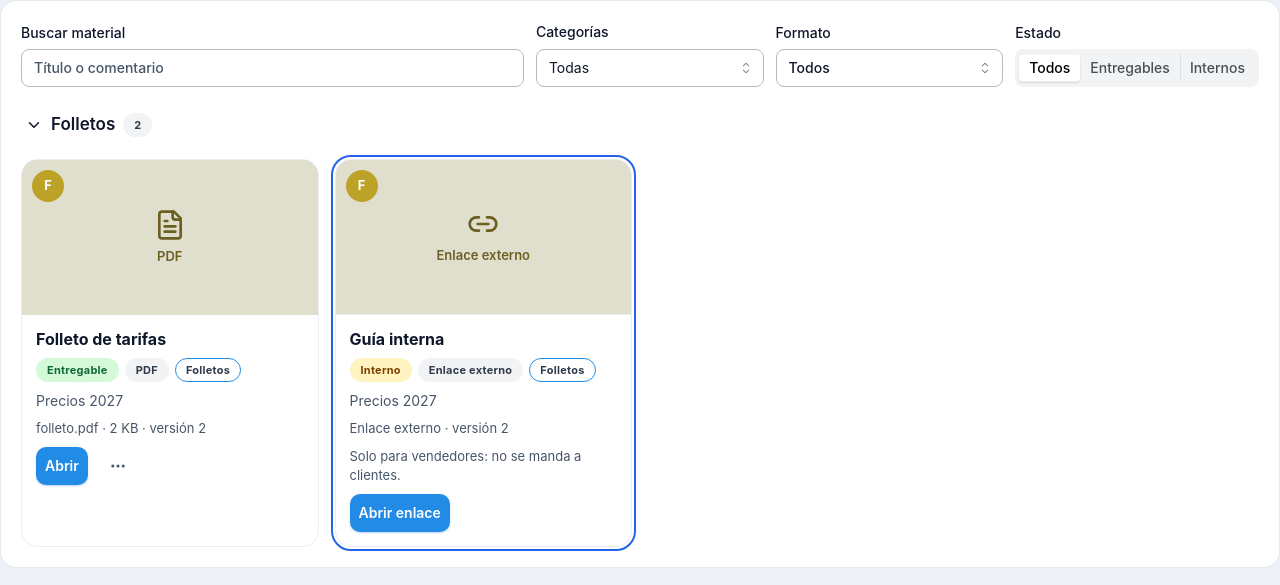
Test case: SalesMaterialPanel › lets a seller open and download the current version without administration actions
Expected: the text "Entregable" is shown, [47,361,108,379]
Expected: the 1st text "Folletos" is shown, [186,361,230,379]
Click the button named "Más acciones de «Folleto de tarifas»".
click(118, 466)  # box [96,447,140,485]
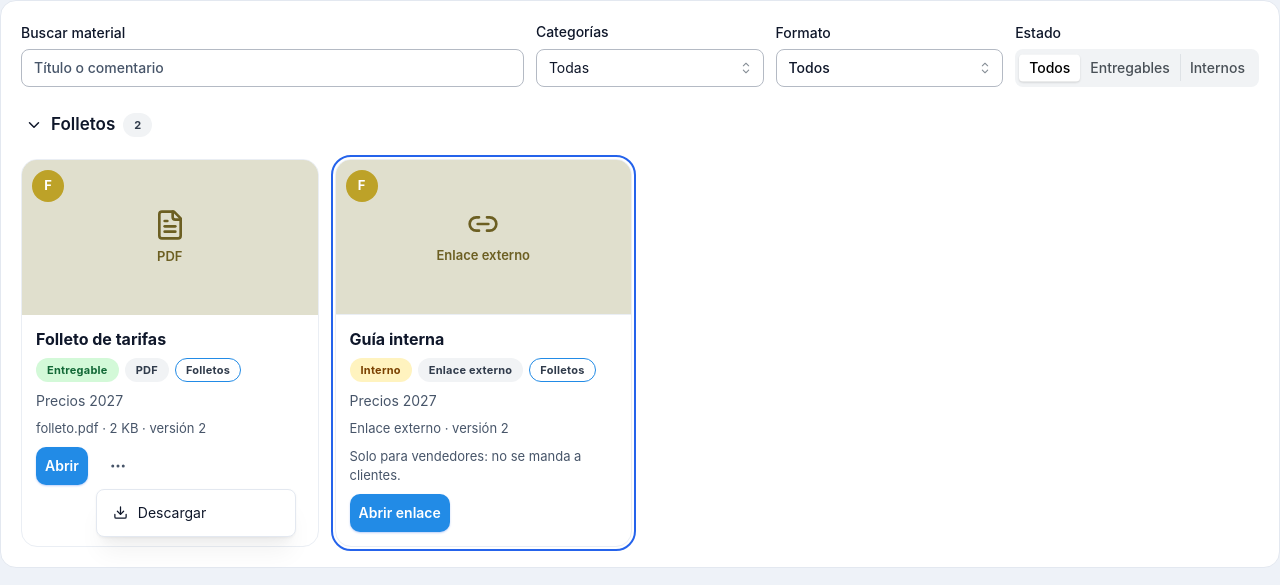
Expected: the text "Interno" is shown, [360,361,401,379]
Now the menu items read "Descargar", in this order, box [113,504,206,521]
